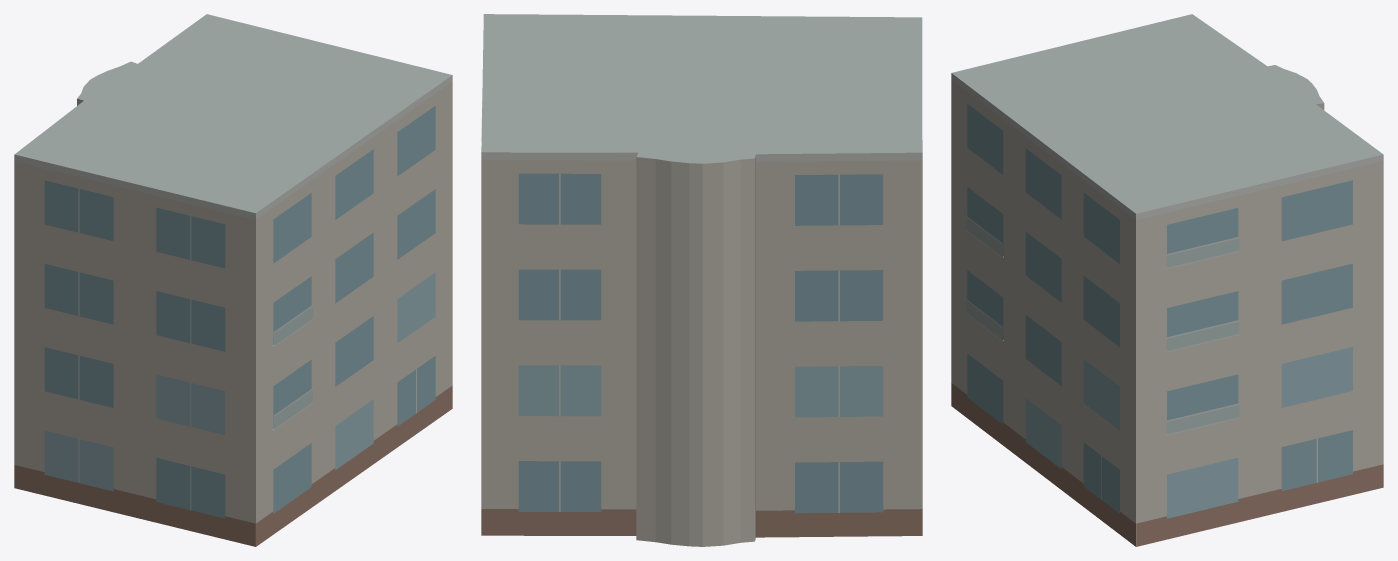
File: survey-upis-33024660.glb
3 views of the same model, side by side, from view 1: azimuth 30°, elevation 25°; view 2: azimuth 150°, elevation 25°; view 3: azimuth 270°, elevation 25° (orthographic). The views are drawn at different scales.
Visible parts, largest first — view 1: survey-upis-33024660.tmp; view 2: survey-upis-33024660.tmp; view 3: survey-upis-33024660.tmp.
Part boxes in pixels (bbox=[...]): survey-upis-33024660.tmp: bbox=[14, 14, 452, 546]; survey-upis-33024660.tmp: bbox=[481, 14, 922, 546]; survey-upis-33024660.tmp: bbox=[951, 14, 1383, 546].
Bounding box in the file's own units: 15.96 × 12.4 × 14.59.
